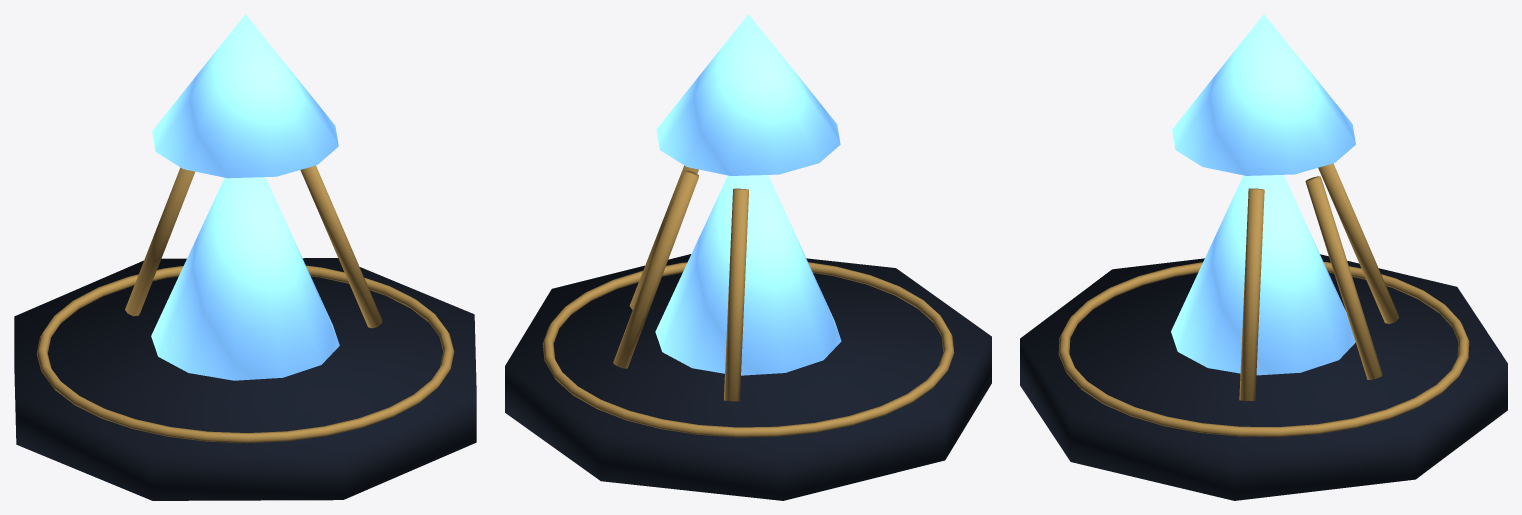
The picture shows the model from 3 angles, left to right: view 1: azimuth 30°, elevation 25°; view 2: azimuth 150°, elevation 25°; view 3: azimuth 270°, elevation 25°; orthographic projection.
Visible parts, largest first — view 1: Hexagonal plinth, Lower crystal, Upper crystal, Inlaid rim, Brass setting, Brass setting.002; view 2: Hexagonal plinth, Lower crystal, Upper crystal, Inlaid rim, Brass setting.002, Brass setting.001, Brass setting; view 3: Hexagonal plinth, Lower crystal, Upper crystal, Inlaid rim, Brass setting, Brass setting.001, Brass setting.002.
Part boxes in pixels (x1,y1,x2,y2): Hexagonal plinth: [14, 258, 476, 500]; Lower crystal: [151, 177, 339, 380]; Upper crystal: [152, 14, 338, 178]; Inlaid rim: [36, 265, 454, 443]; Brass setting: [300, 165, 382, 328]; Brass setting.002: [125, 167, 194, 316]; Hexagonal plinth: [505, 254, 991, 500]; Lower crystal: [655, 175, 841, 375]; Upper crystal: [656, 14, 840, 175]; Inlaid rim: [542, 262, 954, 437]; Brass setting.002: [724, 188, 748, 401]; Brass setting.001: [613, 170, 698, 368]; Brass setting: [629, 165, 698, 309]; Hexagonal plinth: [1020, 254, 1507, 500]; Lower crystal: [1171, 175, 1355, 375]; Upper crystal: [1172, 14, 1355, 175]; Inlaid rim: [1058, 261, 1469, 436]; Brass setting: [1239, 188, 1264, 401]; Brass setting.001: [1305, 176, 1382, 380]; Brass setting.002: [1318, 163, 1398, 323].
Size of the model in its own units: 1.51 by 1.31 by 1.51.
